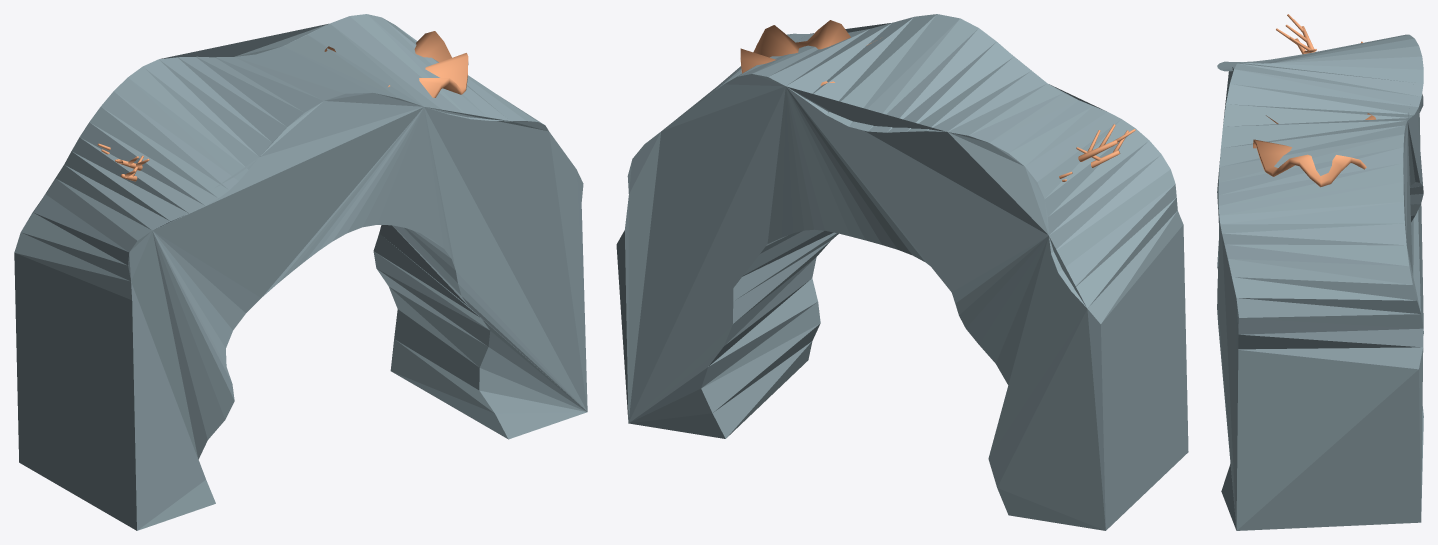
Rendered from swim-through-arch.glb.
3 views of the same model, side by side, from view 1: azimuth 30°, elevation 25°; view 2: azimuth 150°, elevation 25°; view 3: azimuth 270°, elevation 25° (orthographic). The views are drawn at different scales.
Visible parts, largest first — view 1: swim-through-arch; view 2: swim-through-arch; view 3: swim-through-arch.
Boxes of the visible parts, <box> form: swim-through-arch: <box>14,14,587,530</box>; swim-through-arch: <box>616,14,1188,530</box>; swim-through-arch: <box>1217,14,1423,530</box>.
Bounding box in the file's own units: 4.16 × 3.15 × 1.68.
